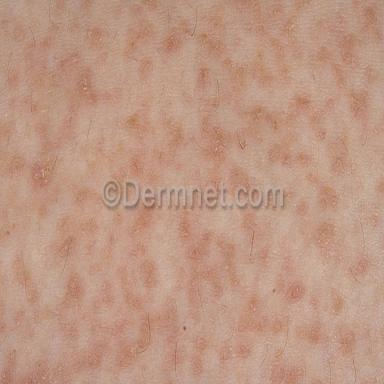Darier_s-Disease: (0, 2, 384, 384)
